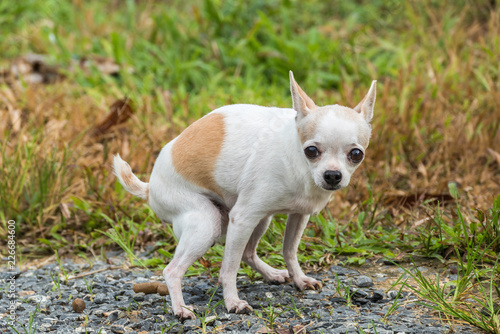dog_pooping: (110, 66, 381, 323)
